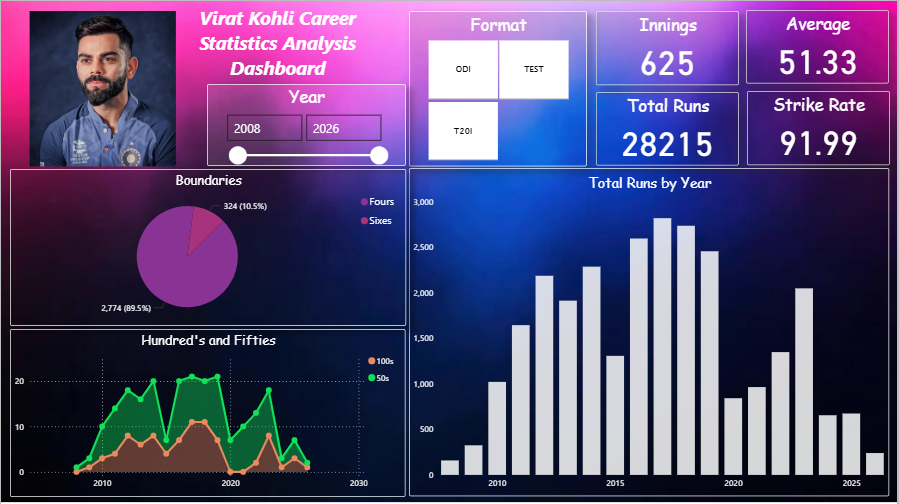

This screenshot's page, from the dashboard's own definition file:
{"tool":"powerbi","page":{"name":"Page 1","canvas":[1280,720],"ordinal":0},"visuals":[{"type":"image","box":[12.4,13.8,265.6,221.6],"z":0},{"type":"textbox","box":[244.8,0,301.7,120.7],"z":1000},{"type":"card","title":"Innings","fields":{"Values":["Sum(VIRAT KOHLI1(overall) (2).Innings)"]},"box":[850,13.9,204.2,105.6],"z":2000},{"type":"card","title":"Total Runs","fields":{"Values":["Sum(VIRAT KOHLI1(overall) (2).Runs)"]},"box":[850,130.6,204.2,105],"z":3000},{"type":"card","title":"Average","fields":{"Values":["Avg(VIRAT KOHLI1(overall) (2).Avg)"]},"box":[1063.8,13.2,204,105],"z":4000},{"type":"card","title":"Strike Rate","fields":{"Values":["Avg(VIRAT KOHLI1(overall) (2).SR)"]},"box":[1065.3,129.2,204.2,105.6],"z":5000},{"type":"slicer","title":"Format","fields":{"Values":["VIRAT KOHLI1(overall) (2).Format"]},"box":[583.3,13.9,254.2,222.2],"z":6000},{"type":"slicer","title":"Year","fields":{"Values":["VIRAT KOHLI1(overall) (2).Year"]},"box":[294.5,118.4,283.5,117],"z":7000},{"type":"clusteredColumnChart","title":"Total Runs by Year","fields":{"Category":["VIRAT KOHLI1(overall) (2).Year"],"Y":["Sum(VIRAT KOHLI1(overall) (2).Runs)"]},"box":[583.3,238.9,686.1,469.4],"z":8000},{"type":"pieChart","title":"Boundaries","fields":{"Y":["Sum(VIRAT KOHLI1(overall) (2).4s)","Sum(VIRAT KOHLI1(overall) (2).6s)"]},"box":[12.4,239.5,565.7,224.3],"z":9000},{"type":"stackedAreaChart","title":"Hundred''s and Fifties","fields":{"Category":["VIRAT KOHLI1(overall) (2).Year"],"Y":["Sum(VIRAT KOHLI1(overall) (2).100)","Sum(VIRAT KOHLI1(overall) (2).50)"]},"box":[12.5,468.1,565,240.3],"z":10000}]}

Visuals, with their boxes in screenshot pixels (x1, y1, x2, y2), scaled from the page's 1280x720 canvas onto the 899x504 screenshot:
image: x1=9, y1=10, x2=195, y2=165
textbox: x1=172, y1=0, x2=384, y2=84
"Innings" card: x1=597, y1=10, x2=740, y2=84
"Total Runs" card: x1=597, y1=91, x2=740, y2=165
"Average" card: x1=747, y1=9, x2=890, y2=83
"Strike Rate" card: x1=748, y1=90, x2=892, y2=164
"Format" slicer: x1=410, y1=10, x2=588, y2=165
"Year" slicer: x1=207, y1=83, x2=406, y2=165
"Total Runs by Year" clusteredColumnChart: x1=410, y1=167, x2=892, y2=496
"Boundaries" pieChart: x1=9, y1=168, x2=406, y2=325
"Hundred''s and Fifties" stackedAreaChart: x1=9, y1=328, x2=406, y2=496
